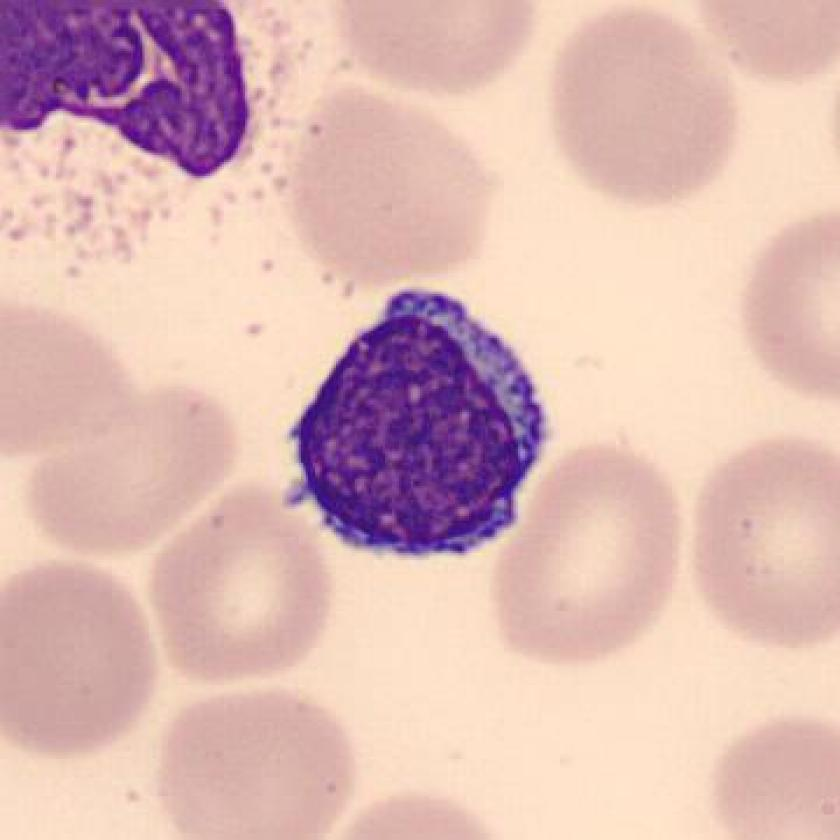lymphocyte: (269, 270, 566, 580)
